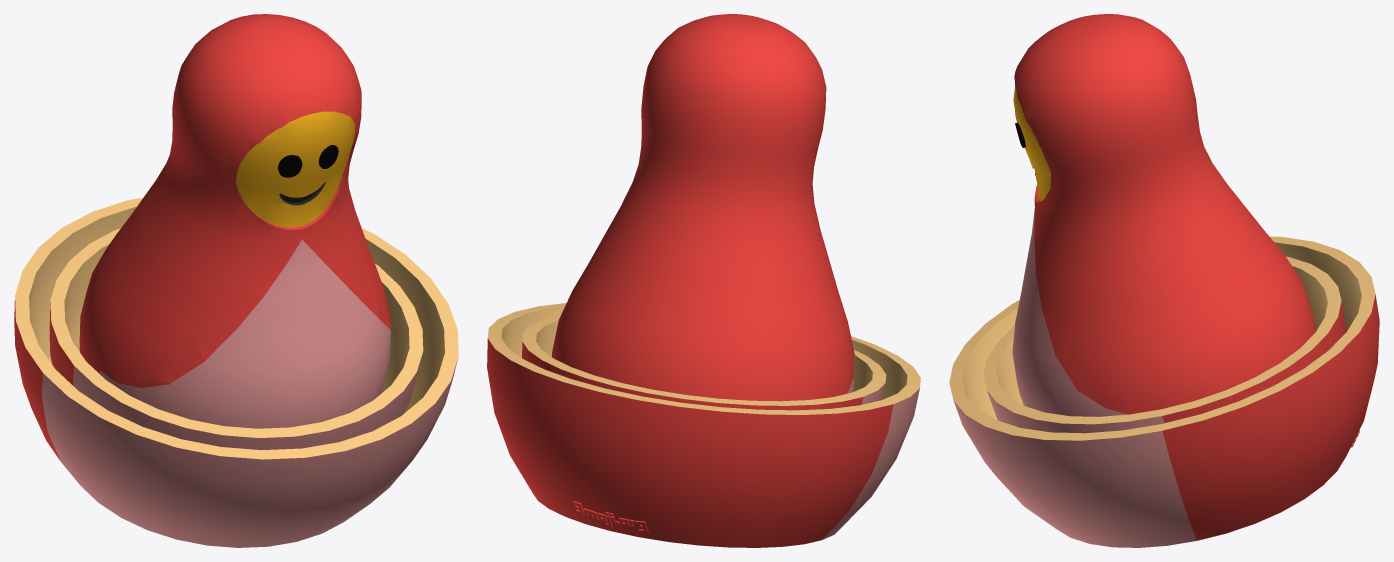
Rendered from nesting_dolls.fbx.
The picture shows the model from 3 angles, left to right: view 1: azimuth 30°, elevation 25°; view 2: azimuth 150°, elevation 25°; view 3: azimuth 270°, elevation 25°; orthographic projection. The views are drawn at different scales.
Parts seen in each view (by area): view 1: Sphere.524, Circle.2536; view 2: Sphere.524; view 3: Sphere.524.
Part boxes in pixels (bbox=[...]): Sphere.524: bbox=[14, 14, 458, 547]; Circle.2536: bbox=[278, 145, 338, 177]; Sphere.524: bbox=[487, 14, 920, 547]; Sphere.524: bbox=[949, 14, 1379, 547].
Size of the model in its own units: 181 by 220 by 178.
Materials: 1 (1 with a texture image).
